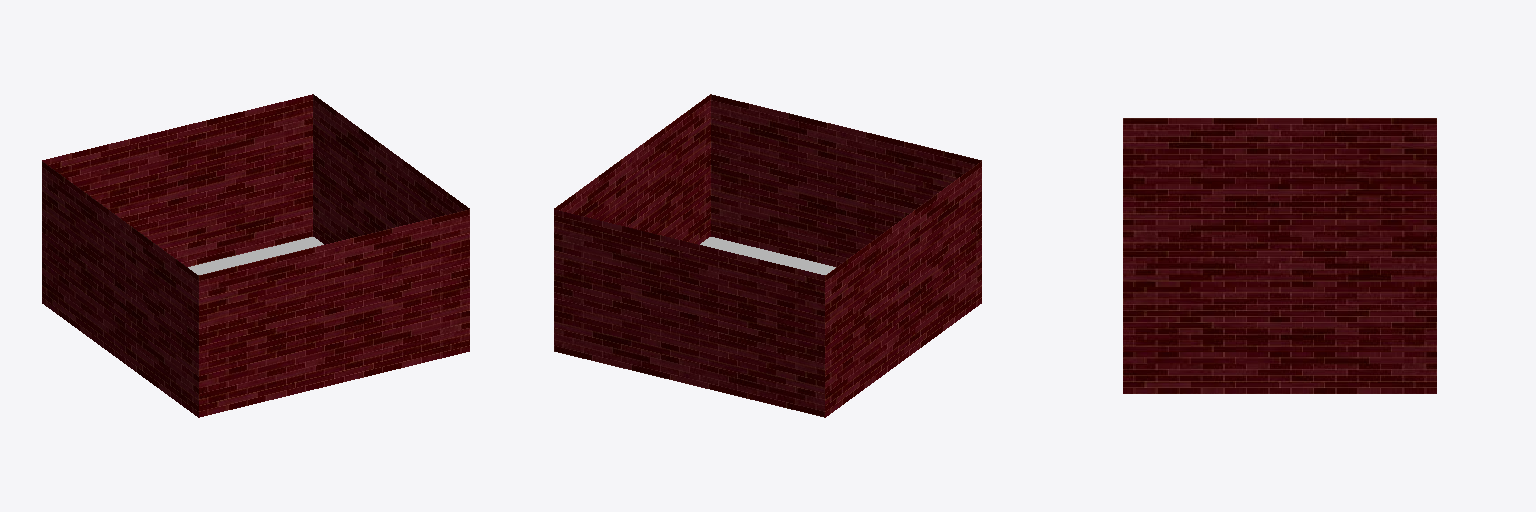
The picture shows the model from 3 angles: view 1: azimuth 30°, elevation 25°; view 2: azimuth 150°, elevation 25°; view 3: azimuth 270°, elevation 25°; orthographic projection.
Visible parts, largest first — view 1: Cube; view 2: Cube; view 3: Cube.
Boxes of the visible parts, <box> form: Cube: <box>42,94,469,417</box>; Cube: <box>554,94,981,417</box>; Cube: <box>1123,118,1436,393</box>.
Bounding box in the file's own units: 2 × 1 × 2.
2 materials, 1 textured.